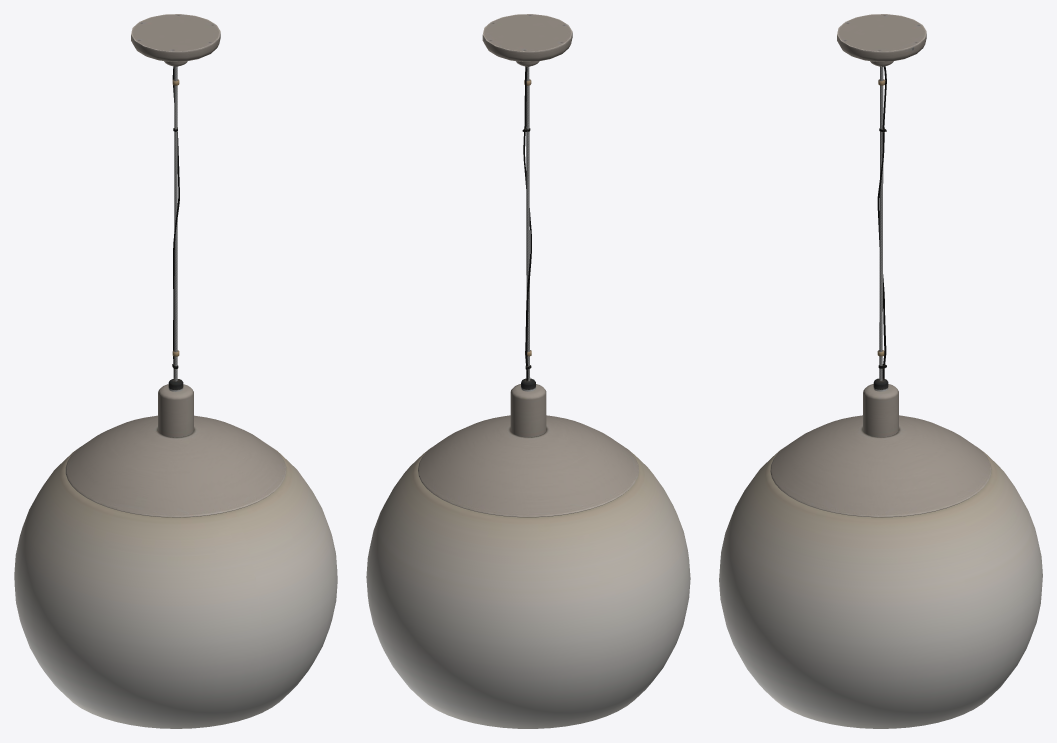
The model's file is modern_ceiling_lamp_01_1k.gltf.
The picture shows the model from 3 angles, left to right: view 1: azimuth 30°, elevation 25°; view 2: azimuth 150°, elevation 25°; view 3: azimuth 270°, elevation 25°; orthographic projection.
Visible parts, largest first — view 1: modern_ceiling_lamp_01; view 2: modern_ceiling_lamp_01; view 3: modern_ceiling_lamp_01.
Boxes of the visible parts, x1=… form: modern_ceiling_lamp_01: x1=14, y1=14, x2=337, y2=728; modern_ceiling_lamp_01: x1=366, y1=14, x2=690, y2=728; modern_ceiling_lamp_01: x1=719, y1=14, x2=1042, y2=728.
Bounding box in the file's own units: 0.4317 × 0.9516 × 0.4317.
3 materials, 3 textured.
